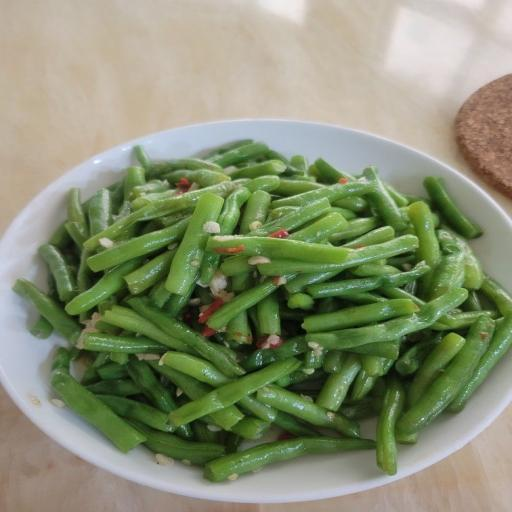buncis_rebus: (8, 115, 512, 497)
